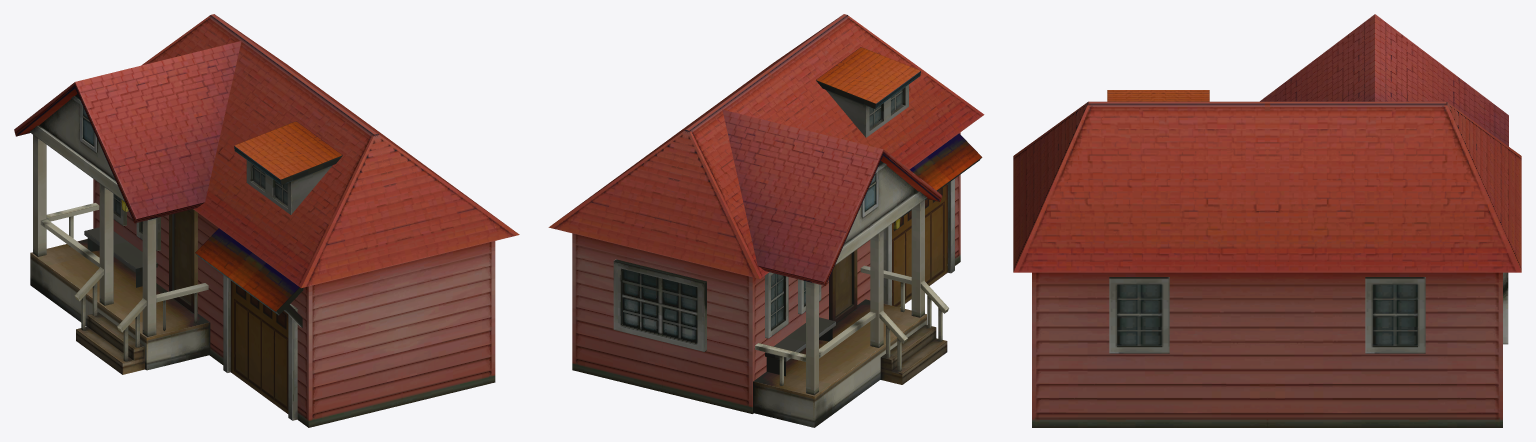
Rendered from House.fbx.
The picture shows the model from 3 angles, left to right: view 1: azimuth 30°, elevation 25°; view 2: azimuth 150°, elevation 25°; view 3: azimuth 270°, elevation 25°; orthographic projection. The views are drawn at different scales.
Parts seen in each view (by area): view 1: House; view 2: House; view 3: House.
Part boxes in pixels (<box>): House: <box>14,14,519,427</box>; House: <box>548,14,984,427</box>; House: <box>1013,14,1521,427</box>.
Size of the model in its own units: 12.05 by 9.98 by 16.68.
